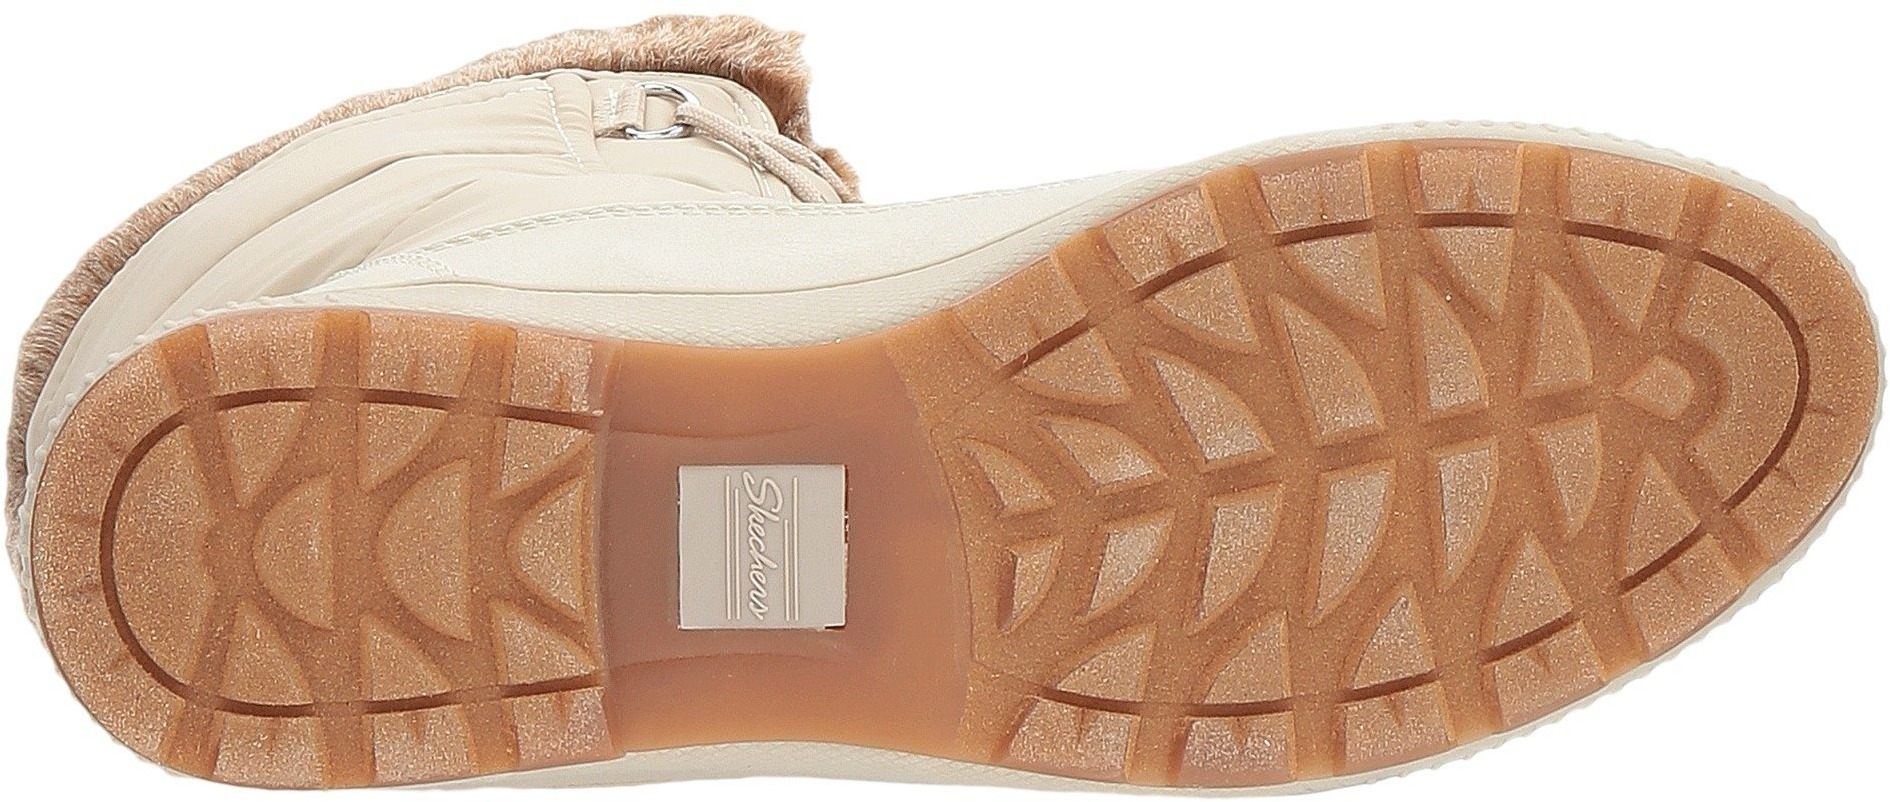quad: (653, 444, 868, 649)
text: (710, 469, 809, 617)
